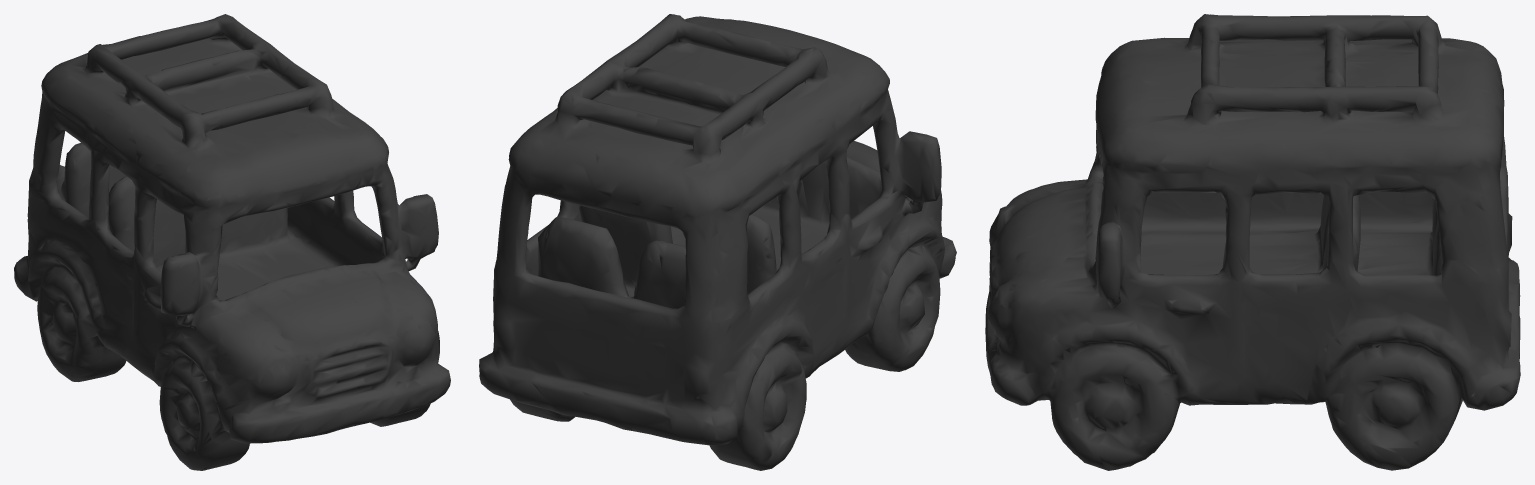
The model's file is car_bus.glb.
3 renders of one model, left to right at view 1: azimuth 30°, elevation 25°; view 2: azimuth 150°, elevation 25°; view 3: azimuth 270°, elevation 25°, orthographic. The views are drawn at different scales.
Parts seen in each view (by area): view 1: geometry_0; view 2: geometry_0; view 3: geometry_0.
Part boxes in pixels (x1,y1,x2,y2): geometry_0: (14,14,450,470); geometry_0: (479,14,956,470); geometry_0: (985,14,1520,470).
Size of the model in its own units: 0.6786 by 0.7425 by 1.
1 material, 1 textured.
